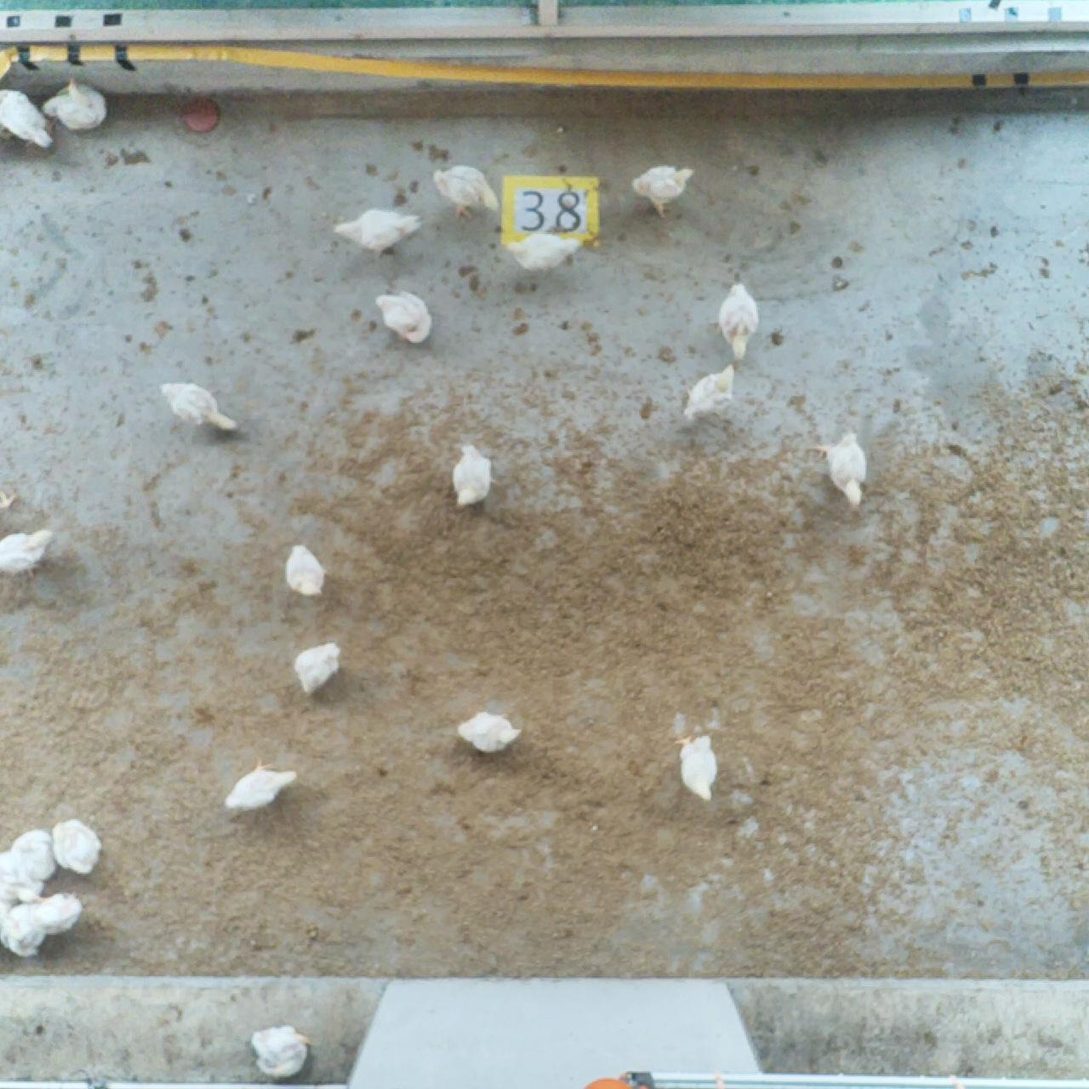chicken: (222, 761, 305, 819), (328, 204, 419, 254), (250, 1024, 328, 1080), (432, 162, 500, 220), (38, 77, 111, 130), (628, 162, 693, 218), (819, 433, 865, 509), (162, 385, 235, 430), (716, 279, 756, 358), (459, 713, 527, 759), (446, 444, 494, 509), (50, 817, 100, 878), (4, 829, 53, 891), (3, 89, 56, 146), (377, 292, 436, 343), (676, 738, 719, 803), (285, 543, 328, 603), (3, 532, 55, 579), (34, 891, 88, 934), (298, 645, 339, 698), (7, 904, 48, 952)
